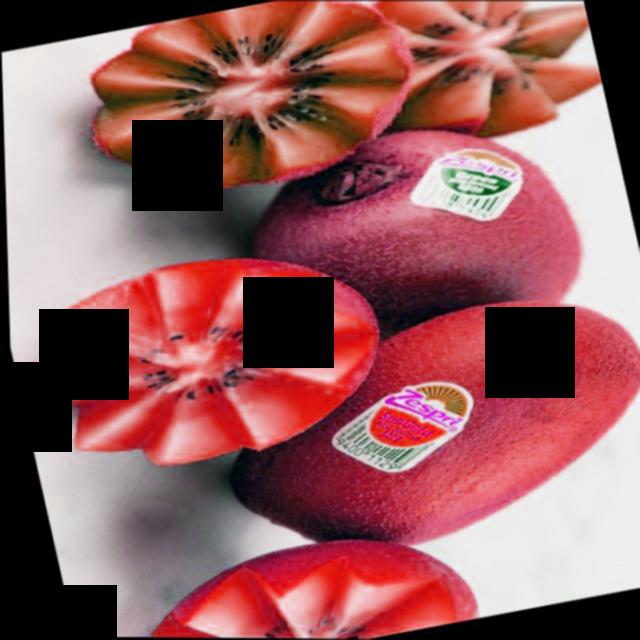kiwi: (191, 270, 640, 590), (234, 90, 601, 344)
